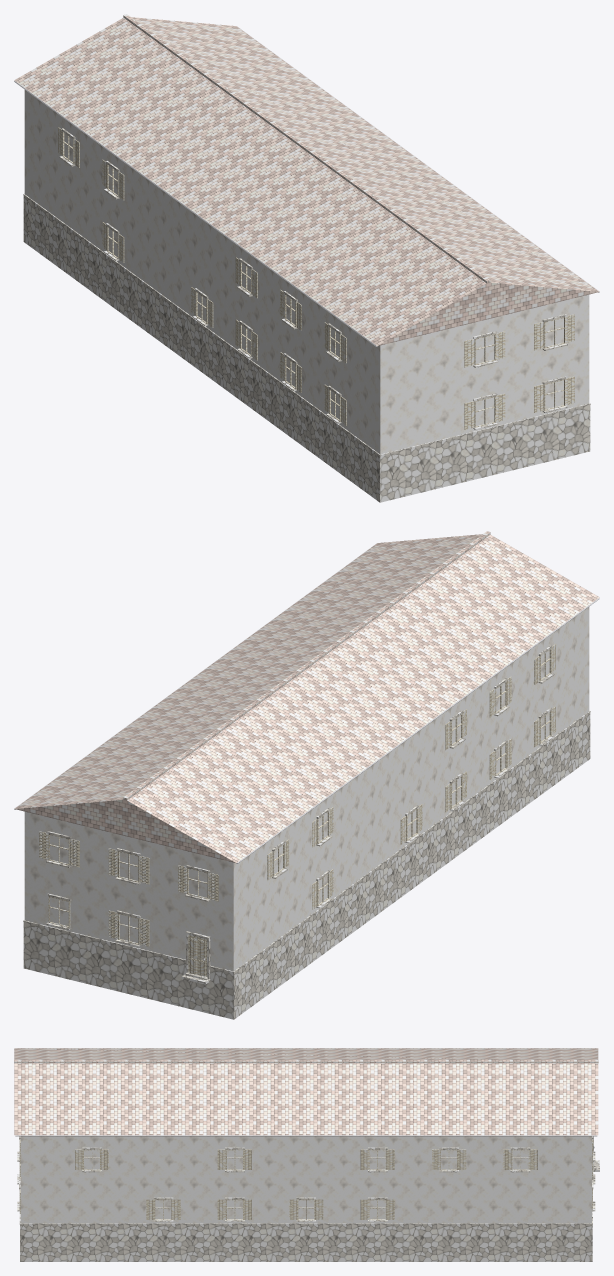
3 renders of one model, top to bottom at view 1: azimuth 30°, elevation 25°; view 2: azimuth 150°, elevation 25°; view 3: azimuth 270°, elevation 25°, orthographic. The views are drawn at different scales.
Visible parts, largest first — view 1: b1053724039; view 2: b1053724039; view 3: b1053724039.
Boxes of the visible parts, <box> form: b1053724039: <box>14,14,599,502</box>; b1053724039: <box>14,531,599,1019</box>; b1053724039: <box>14,1048,599,1261</box>.
Size of the model in its own units: 11.66 by 9.9 by 32.9.
Materials: 17 (17 with a texture image).
